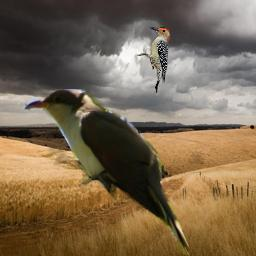Cuckoo: (21, 89, 189, 256)
Woodpecker: (137, 27, 170, 93)
